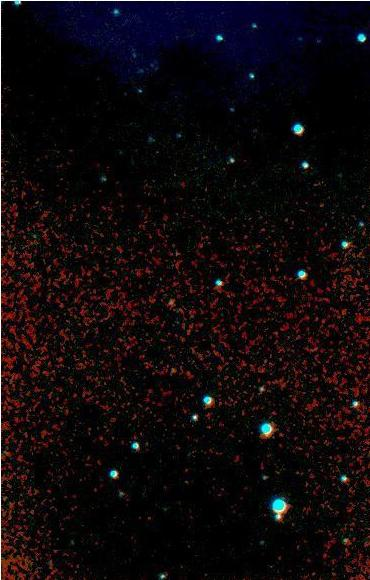star: (164, 22, 194, 52)
